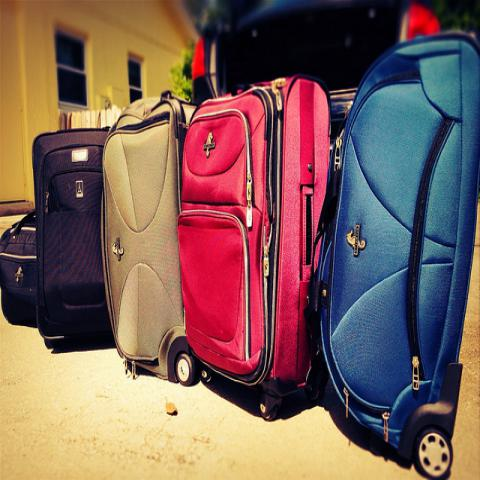car: (191, 0, 443, 152)
